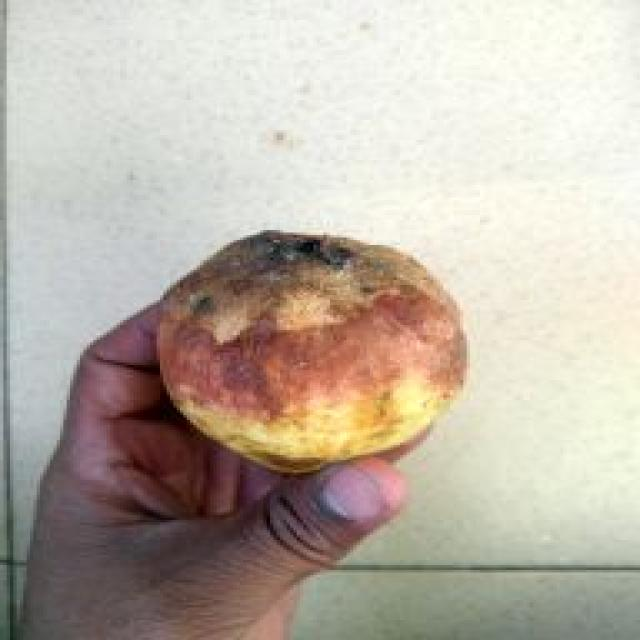Bad_Guava: (160, 231, 467, 472)
